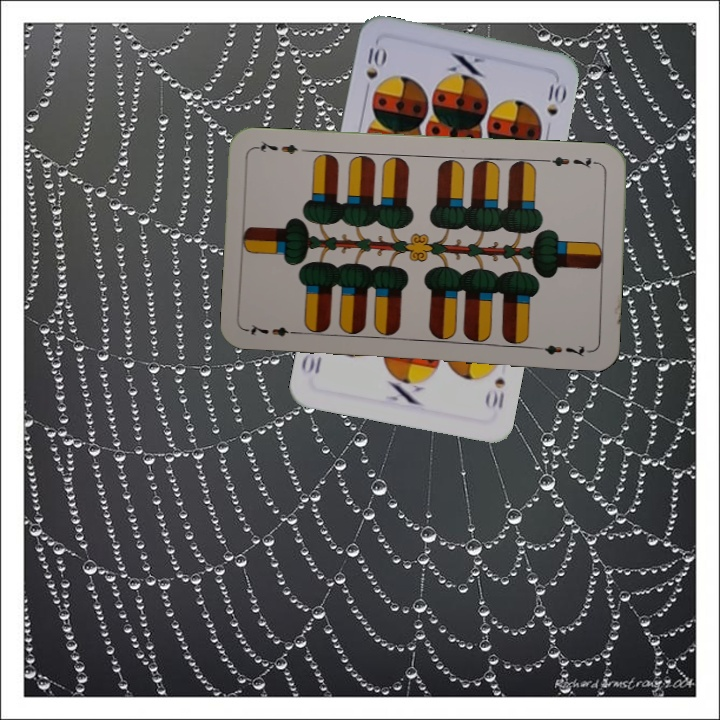E7: (542, 152, 602, 171), (245, 320, 304, 339)
S10: (362, 43, 387, 98), (481, 374, 508, 412)
